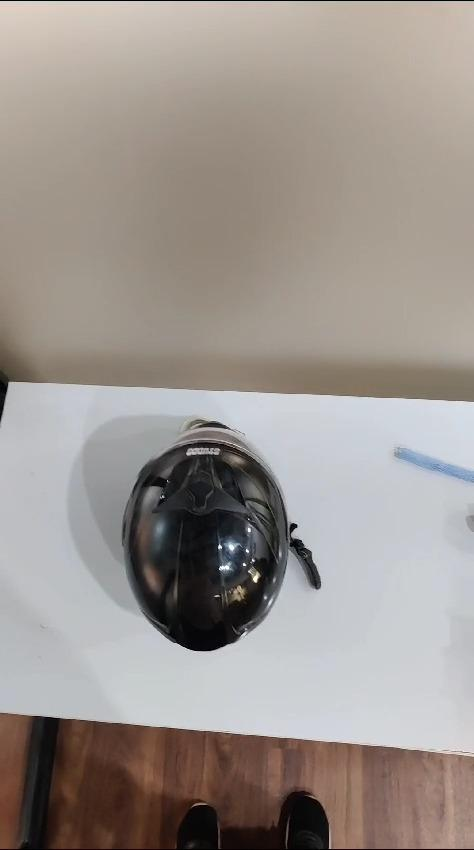Helmet: (118, 418, 293, 663)
